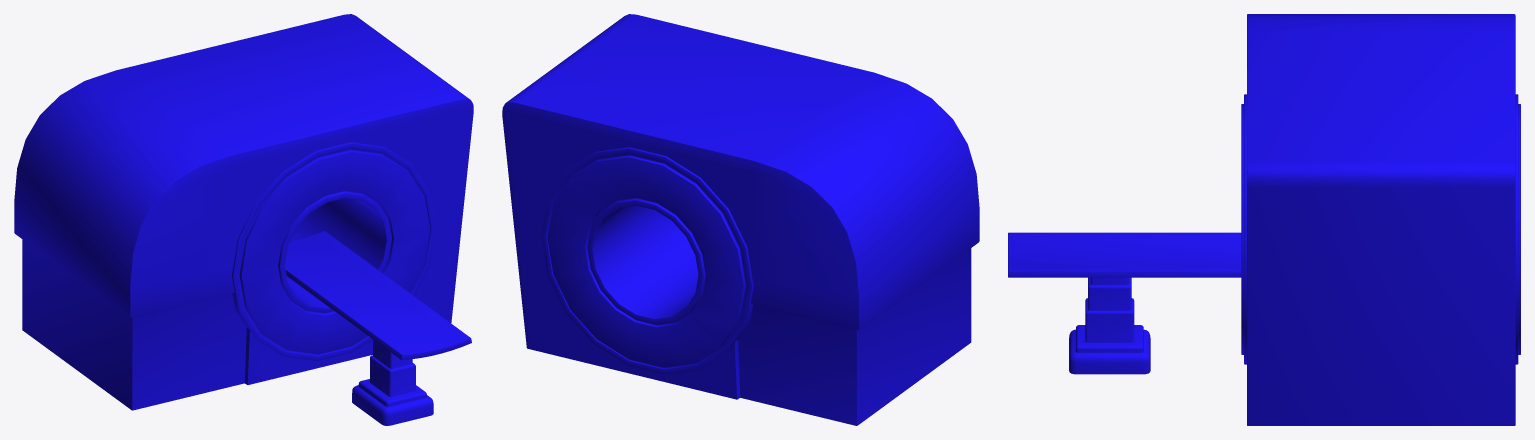
File: SM_MRT.fbx
3 views of the same model, side by side, from view 1: azimuth 30°, elevation 25°; view 2: azimuth 150°, elevation 25°; view 3: azimuth 270°, elevation 25° (orthographic). The views are drawn at different scales.
Visible parts, largest first — view 1: MRT_lp; view 2: MRT_lp; view 3: MRT_lp.
Boxes of the visible parts, box(x1,y1,x2,y2) form: MRT_lp: box(14, 14, 473, 425); MRT_lp: box(502, 14, 979, 425); MRT_lp: box(1008, 14, 1520, 425).
Bounding box in the file's own units: 33.83 × 22 × 37.8.
